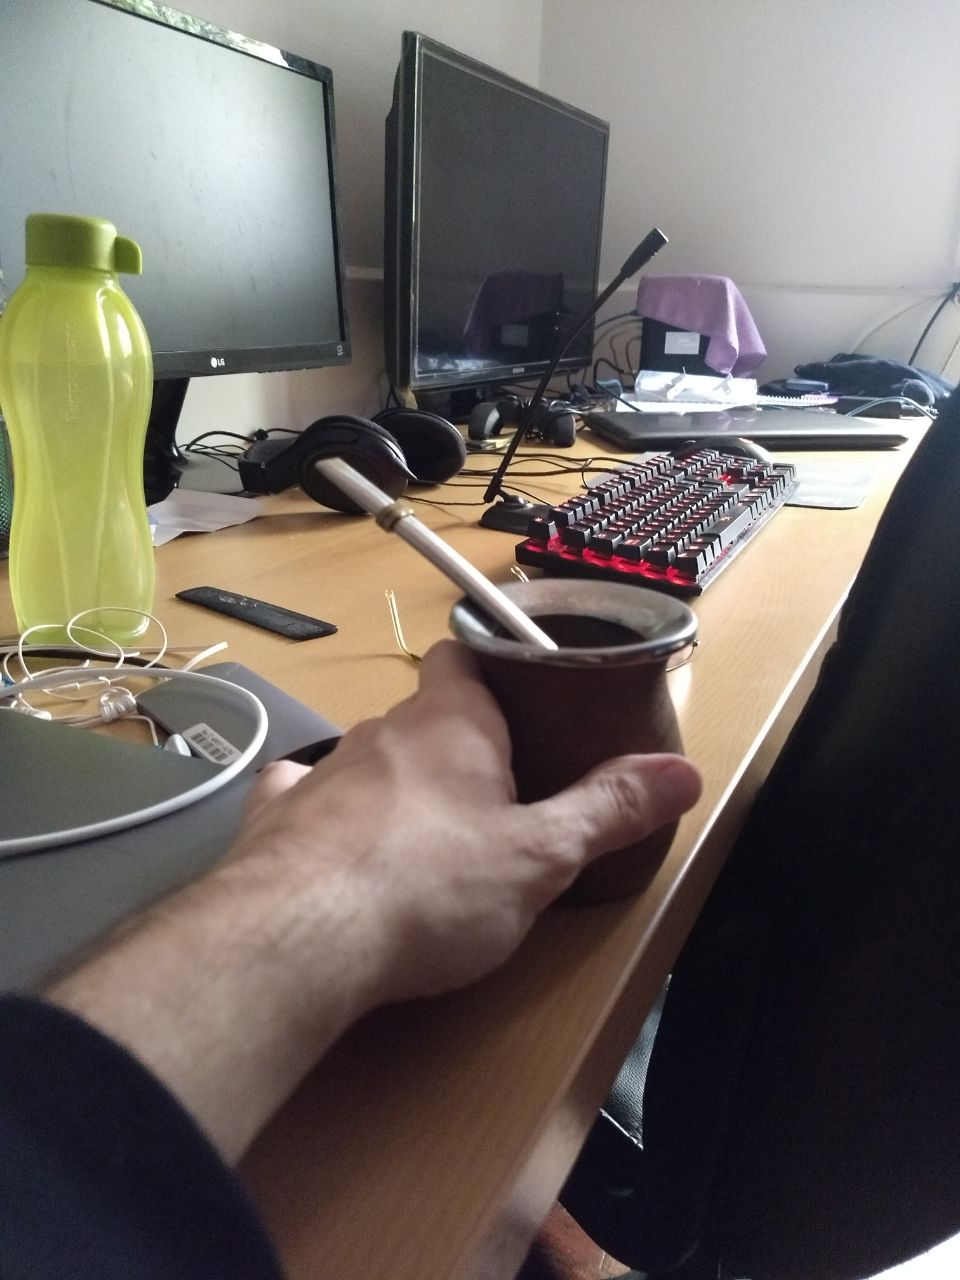madera: (308, 453, 708, 911)
mate: (310, 455, 710, 913)
